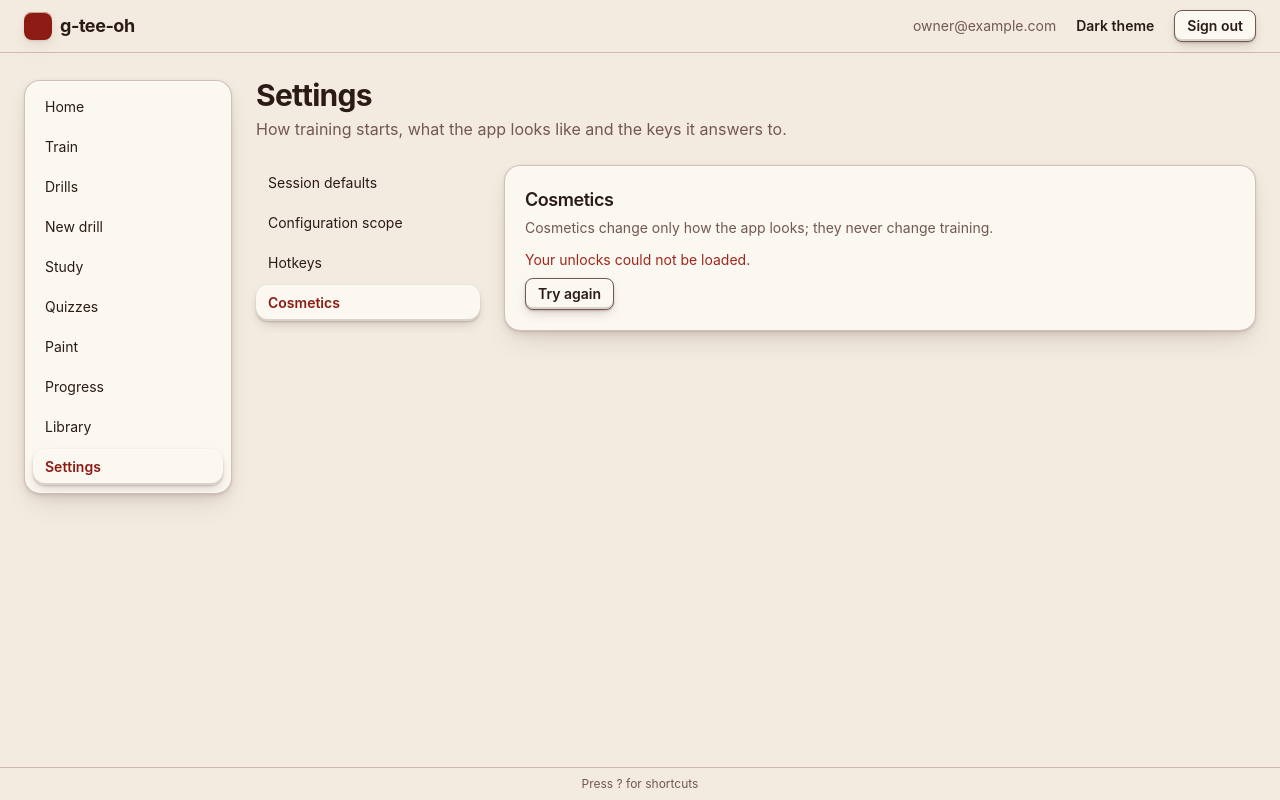
Test: R4.14 /settings cosmetics › R4.14 a failed unlock read says so and Try again loads the slots
The width and height of the screenshot is (1280, 800).
Expected: the message shows "Your unlocks could not be loaded.", [525,251,750,268]
What coordinates should you click on to do the following:
click the button named "Try again: your unlocks"
I would click on:
 (570, 294)
Its box is [525,278,614,310].
(page scrolled)
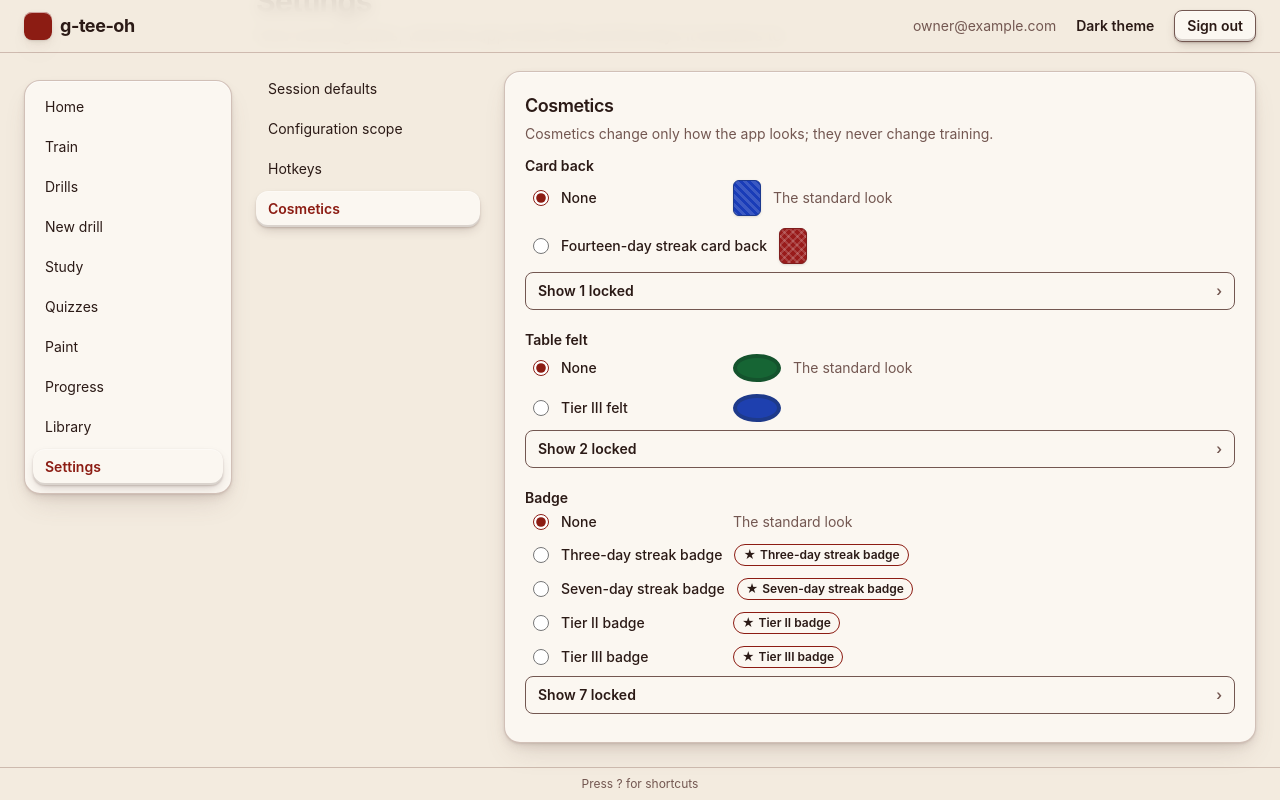
Expected: the element "Badge" is shown, [525,488,1235,722]
